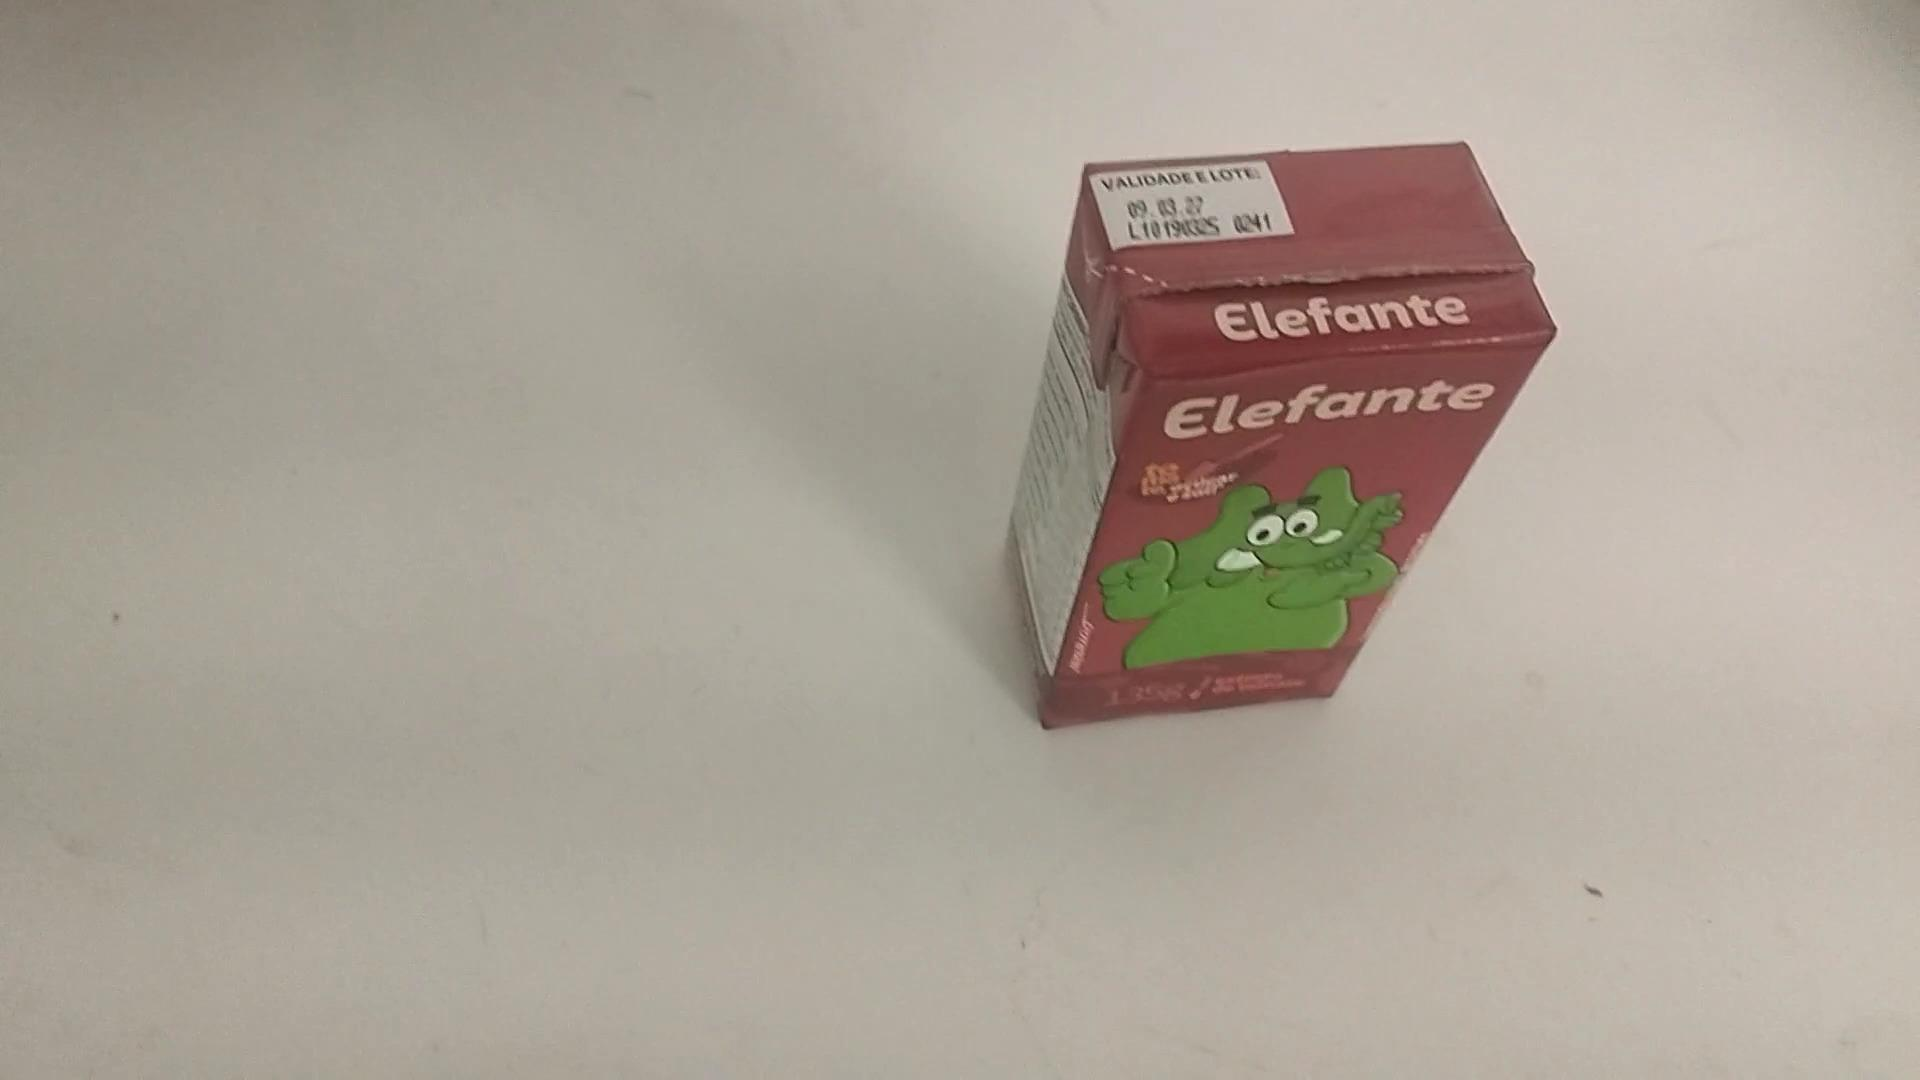tomate: (1011, 144, 1560, 735)
